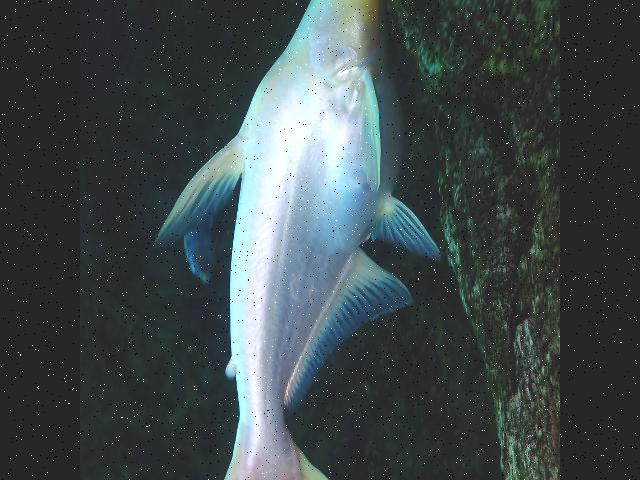Sirip Anal: (280, 250, 416, 410)
Sirip Dada: (342, 72, 388, 188)
Sirip Ekor: (173, 450, 404, 480)
Sirip Perut: (352, 188, 450, 254)
Sirip Punggung: (147, 130, 253, 244)
